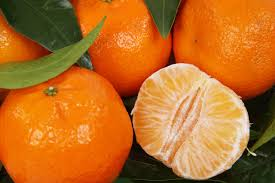orange: (1, 65, 133, 183), (68, 1, 173, 96), (174, 2, 275, 100)
